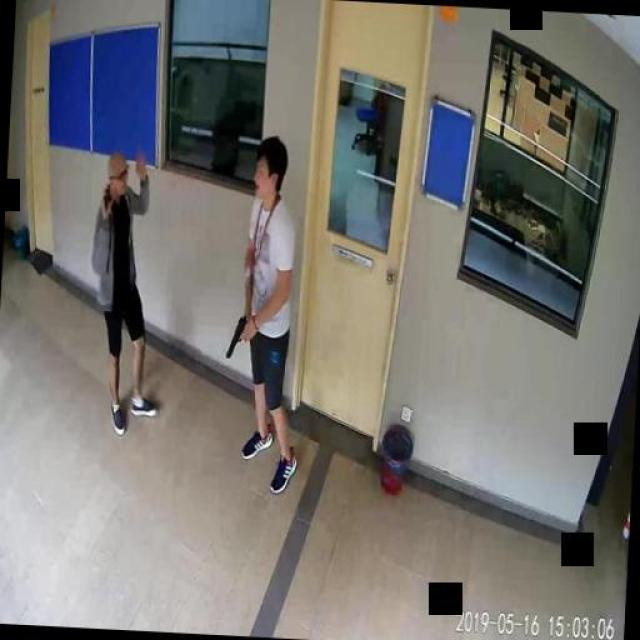gun: (225, 314, 247, 358)
